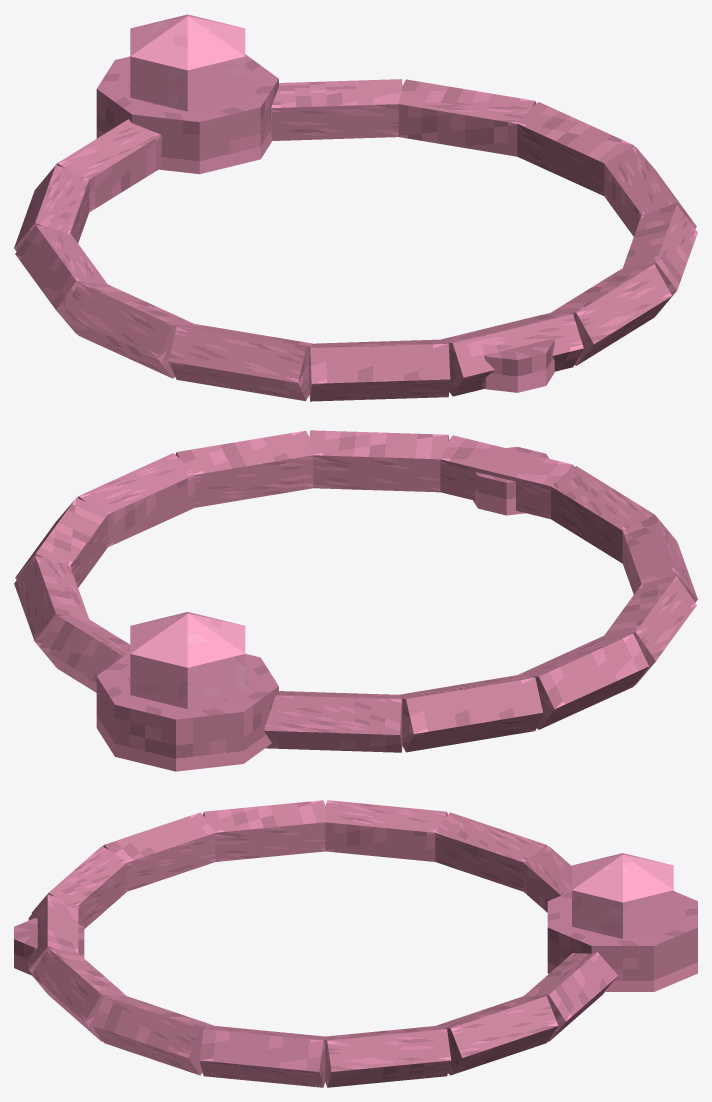
The model's file is flower_anklet.glb.
3 views of the same model, one above another, from view 1: azimuth 30°, elevation 25°; view 2: azimuth 150°, elevation 25°; view 3: azimuth 270°, elevation 25° (orthographic). The views are drawn at different scales.
Parts seen in each view (by area): view 1: block_polished setting, block_faceted stone, block_bracelet band4, block_bracelet band5, block_bracelet band11, block_bracelet band12, block_bracelet band6, block_bracelet band13, block_bracelet band2, block_bracelet band3, block_bracelet band9, block_bracelet band7 (+4 smaller); view 2: block_polished setting, block_faceted stone, block_bracelet band8, block_bracelet band9, block_bracelet band2, block_bracelet band1, block_bracelet band7, block_bracelet band0, block_bracelet band3, block_bracelet band4, block_bracelet band6, block_bracelet band11 (+4 smaller); view 3: block_polished setting, block_faceted stone, block_bracelet band0, block_bracelet band13, block_bracelet band6, block_bracelet band7, block_bracelet band1, block_bracelet band12, block_bracelet band5, block_bracelet band8, block_bracelet band2, block_bracelet band11 (+4 smaller).
Part boxes in pixels (x1,y1,x2,y2): block_polished setting: [96, 54, 278, 174]; block_faceted stone: [130, 14, 245, 111]; block_bracelet band4: [309, 339, 450, 401]; block_bracelet band5: [169, 324, 312, 401]; block_bracelet band11: [271, 79, 402, 140]; block_bracelet band12: [398, 79, 536, 156]; block_bracelet band6: [63, 282, 193, 378]; block_bracelet band13: [517, 102, 634, 195]; block_bracelet band2: [551, 264, 671, 365]; block_bracelet band3: [441, 312, 583, 396]; block_bracelet band9: [56, 119, 160, 212]; block_bracelet band7: [15, 224, 107, 333]; block_polished setting: [96, 652, 278, 771]; block_faceted stone: [130, 612, 245, 708]; block_bracelet band8: [399, 675, 542, 752]; block_bracelet band9: [264, 691, 402, 752]; block_bracelet band2: [309, 430, 449, 492]; block_bracelet band1: [175, 430, 313, 507]; block_bracelet band7: [518, 633, 648, 729]; block_bracelet band0: [77, 453, 194, 547]; block_bracelet band3: [440, 435, 574, 518]; block_bracelet band4: [551, 466, 655, 563]; block_bracelet band6: [604, 576, 696, 685]; block_bracelet band11: [40, 615, 130, 692]; block_polished setting: [547, 891, 697, 991]; block_faceted stone: [572, 853, 673, 938]; block_bracelet band0: [199, 1026, 325, 1087]; block_bracelet band13: [325, 1026, 451, 1087]; block_bracelet band6: [203, 800, 325, 861]; block_bracelet band7: [325, 800, 447, 861]; block_bracelet band1: [92, 995, 214, 1075]; block_bracelet band12: [436, 995, 558, 1075]; block_bracelet band5: [103, 812, 215, 891]; block_bracelet band8: [435, 812, 547, 891]; block_bracelet band2: [31, 948, 126, 1041]; block_bracelet band11: [524, 952, 618, 1041].
Bounding box in the file's own units: 0.0382 × 0.00786 × 0.0431.
1 material, 1 textured.
